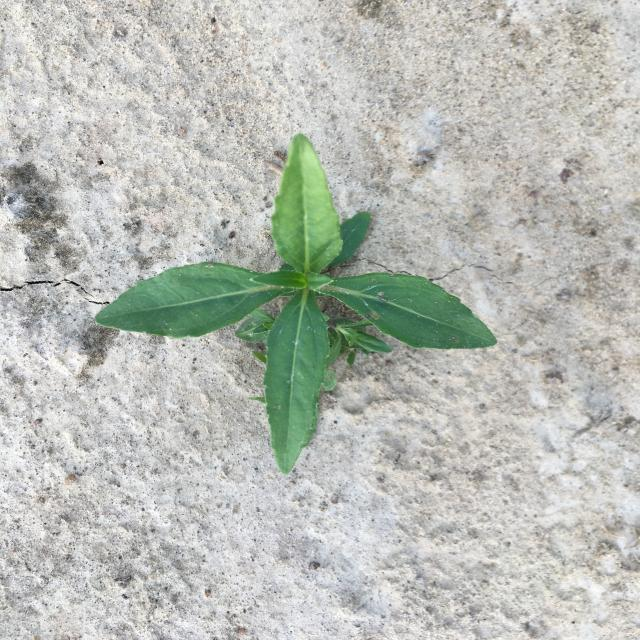Eclipta: (94, 133, 498, 474)
